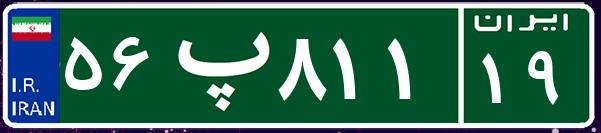1: (385, 28, 445, 110), (330, 28, 385, 110), (475, 38, 525, 113)
5: (57, 26, 110, 107)
6: (110, 28, 158, 105)
8: (273, 28, 330, 110)
9: (525, 38, 570, 115)
پ: (158, 15, 273, 115)
